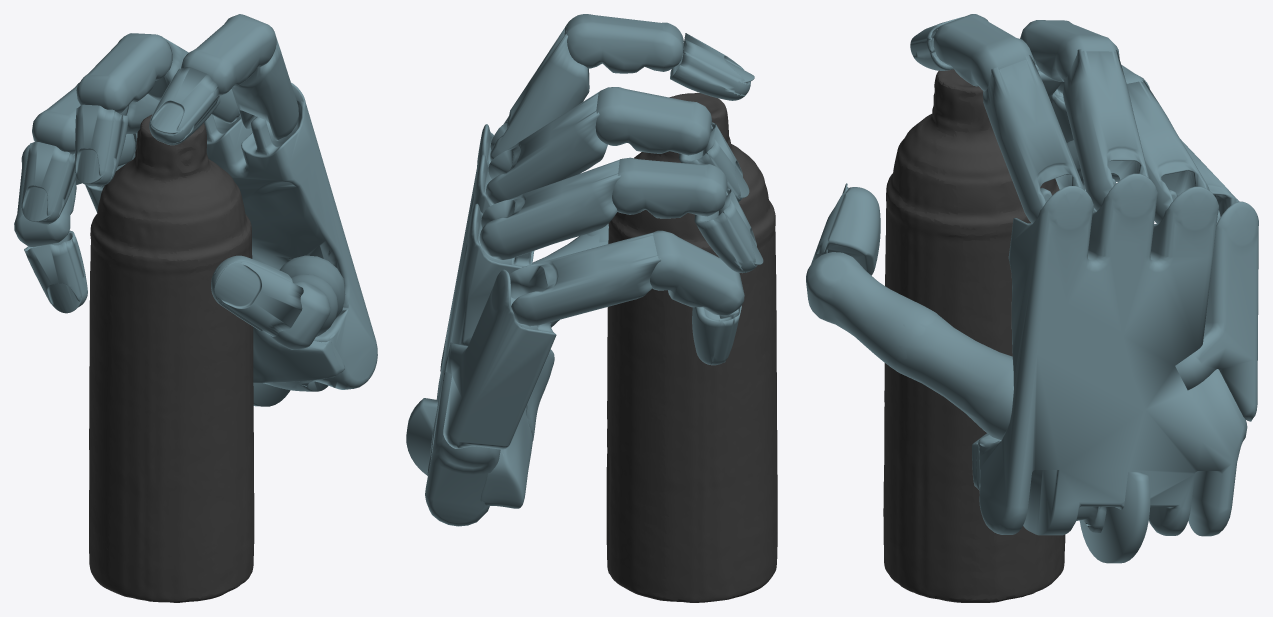
3 views of the same model, side by side, from view 1: azimuth 30°, elevation 25°; view 2: azimuth 150°, elevation 25°; view 3: azimuth 270°, elevation 25° (orthographic). The views are drawn at different scales.
Parts seen in each view (by area): view 1: world; view 2: world; view 3: world.
Boxes of the visible parts, x1,y1,x2,y2 form: world: (14, 14, 377, 602); world: (406, 14, 777, 602); world: (806, 14, 1258, 602).
Bounding box in the file's own units: 0.13 × 0.1974 × 0.1404.
1 material, 1 textured.
